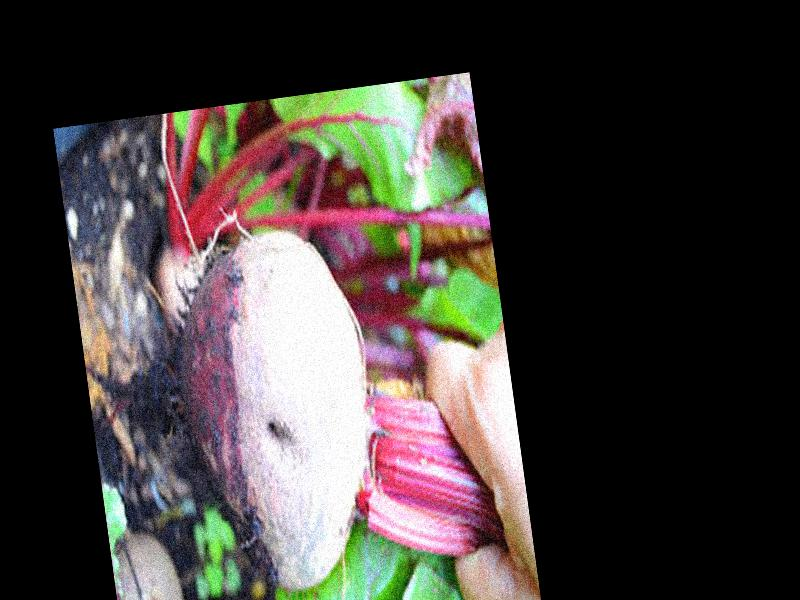Beet: (70, 203, 507, 600)
